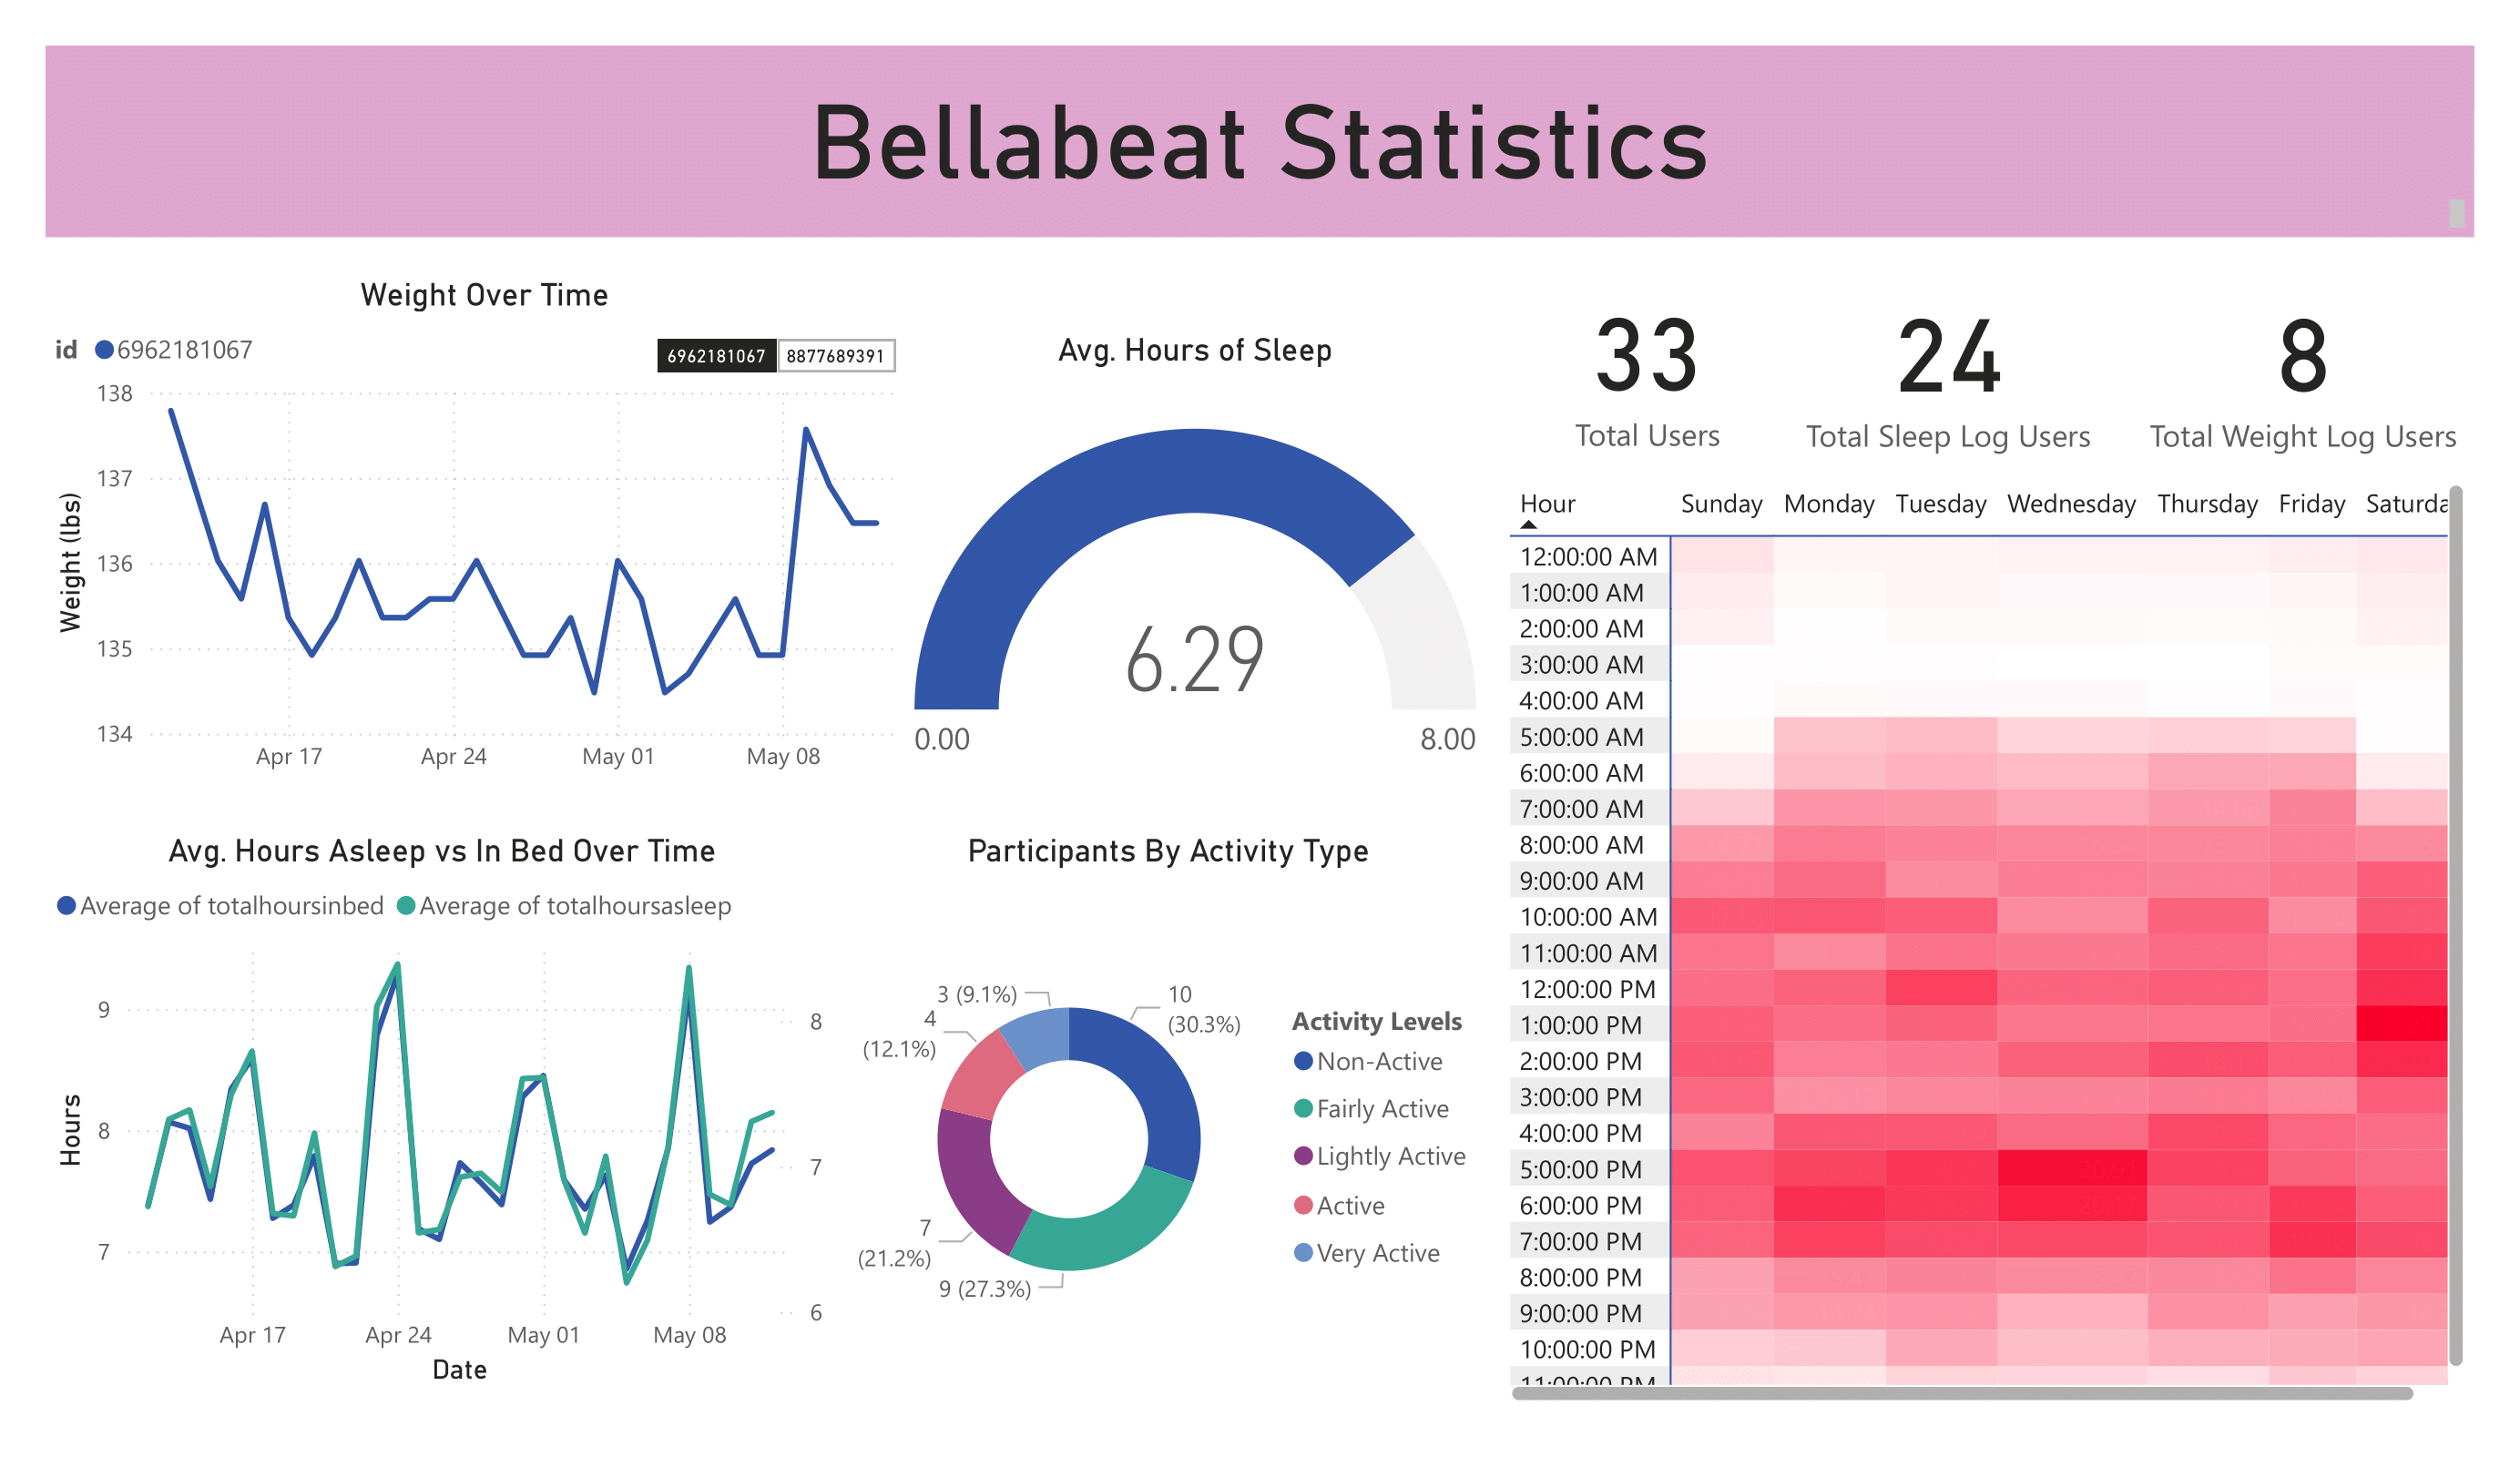

What the dashboard file says about the page in this screenshot:
{"tool":"powerbi","page":{"name":"Page 1","canvas":[1280,720],"ordinal":0},"visuals":[{"type":"lineChart","title":"Weight Over Time","fields":{"Category":["weight_over_time.logdate"],"Y":["Sum(weight_over_time.weightpounds)"],"Series":["weight_over_time.id"]},"box":[0,120.9,463,272.2],"z":0},{"type":"areaChart","title":"Avg. Hours Asleep vs In Bed Over Time","fields":{"Category":["sleep_over_time.sleepday"],"Y2":["Avg(sleep_over_time.totalhoursasleep)"],"Y":["Avg(sleep_over_time.totalhoursinbed)"]},"box":[0,413.7,418.2,297.3],"z":1000},{"type":"advancedSlicerVisual","fields":{"Values":["weight_over_time.id"]},"box":[317.9,150.4,197.9,26.9],"z":2000},{"type":"gauge","title":"Avg. Hours of Sleep","fields":{"Y":["Avg(kpi_2_avg_sleep_per_Id.avg_sleep)"]},"box":[453.1,150.4,305.4,263.3],"z":3000},{"type":"donutChart","title":"Participants By Activity Type","fields":{"Category":["categorized_user_activity.activity_type"],"Y":["Sum(categorized_user_activity.total)"]},"box":[417.3,413.7,349.3,306.3],"z":4000},{"type":"pivotTable","fields":{"Rows":["METS_avg_by_day_and_time.Hour"],"Values":["Sum(METS_avg_by_day_and_time.METs)"],"Columns":["DayOfWeekTable.Day"]},"box":[766.6,225.7,513.1,494.3],"z":5000},{"type":"card","fields":{"Values":["Sum(categorized_user_activity.total)"]},"box":[758.5,105.7,171,120.9],"z":6000},{"type":"textbox","title":"Bellabeat Statistics","box":[0,0,1279.7,101],"z":7000},{"type":"card","fields":{"Values":["Sum(sleep_log_usage.user_count)"]},"box":[913.4,106.6,180,120],"z":8000},{"type":"card","fields":{"Values":["Sum(weight_log_usage - Copy.user_count)"]},"box":[1099.7,106.6,180,120],"z":9000}]}

Visuals, with their boxes on the page's 1280x720 design canvas (x1, y1, x2, y2). These are canvas units, not pixel positions in the 2520x1457 screenshot, which may show the page scaled, cropped or inside an application window:
"Weight Over Time" lineChart: (0,121,463,393)
"Avg. Hours Asleep vs In Bed Over Time" areaChart: (0,414,418,711)
advancedSlicerVisual - weight_over_time.id: (318,150,516,177)
"Avg. Hours of Sleep" gauge: (453,150,758,414)
"Participants By Activity Type" donutChart: (417,414,767,720)
pivotTable - METS_avg_by_day_and_time.Hour x Sum(METS_avg_by_day_and_time.METs): (767,226,1280,720)
card - Sum(categorized_user_activity.total): (758,106,930,227)
"Bellabeat Statistics" textbox: (0,0,1280,101)
card - Sum(sleep_log_usage.user_count): (913,107,1093,227)
card - Sum(weight_log_usage - Copy.user_count): (1100,107,1280,227)
